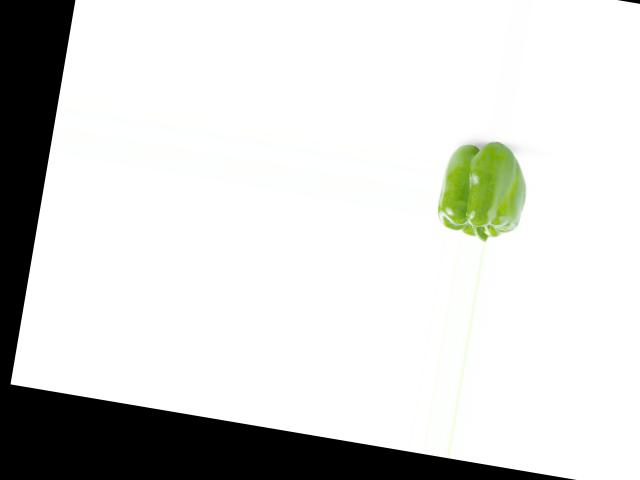bell_pepper: (431, 136, 535, 245)
